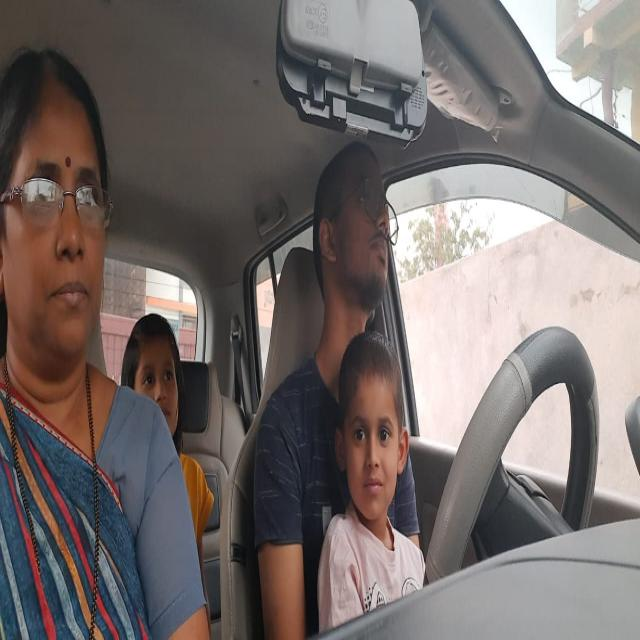child: (330, 334, 418, 525)
person: (0, 37, 118, 385), (313, 124, 408, 318), (121, 298, 203, 431)
